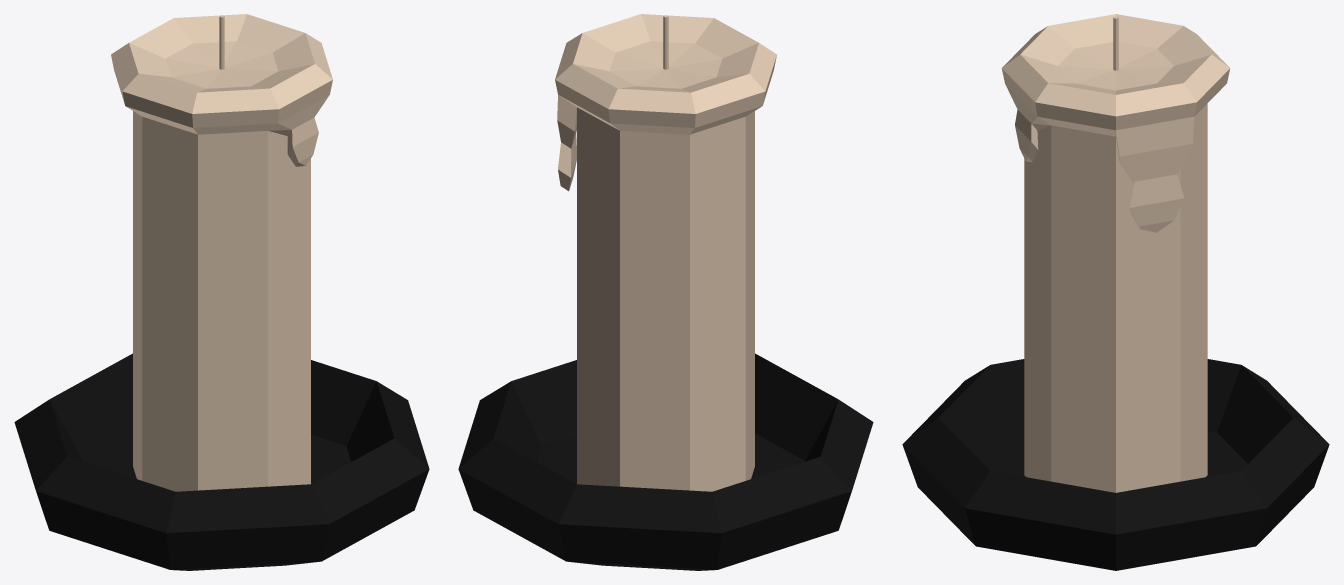
Rendered from Candle.FBX.
3 renders of one model, left to right at view 1: azimuth 30°, elevation 25°; view 2: azimuth 150°, elevation 25°; view 3: azimuth 270°, elevation 25°, orthographic.
Visible parts, largest first — view 1: Cylinder006; view 2: Cylinder006; view 3: Cylinder006.
Boxes of the visible parts, x1=… form: Cylinder006: x1=14, y1=14, x2=429, y2=570; Cylinder006: x1=458, y1=14, x2=873, y2=570; Cylinder006: x1=902, y1=14, x2=1329, y2=570.
Size of the model in its own units: 15.79 by 20.71 by 15.79.
